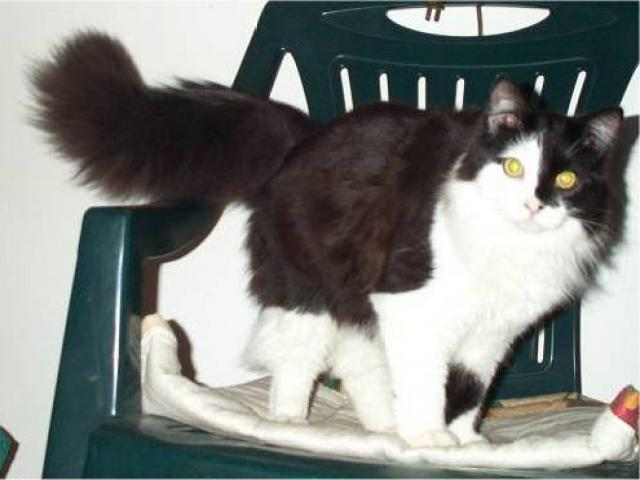cat: (58, 47, 632, 451)
